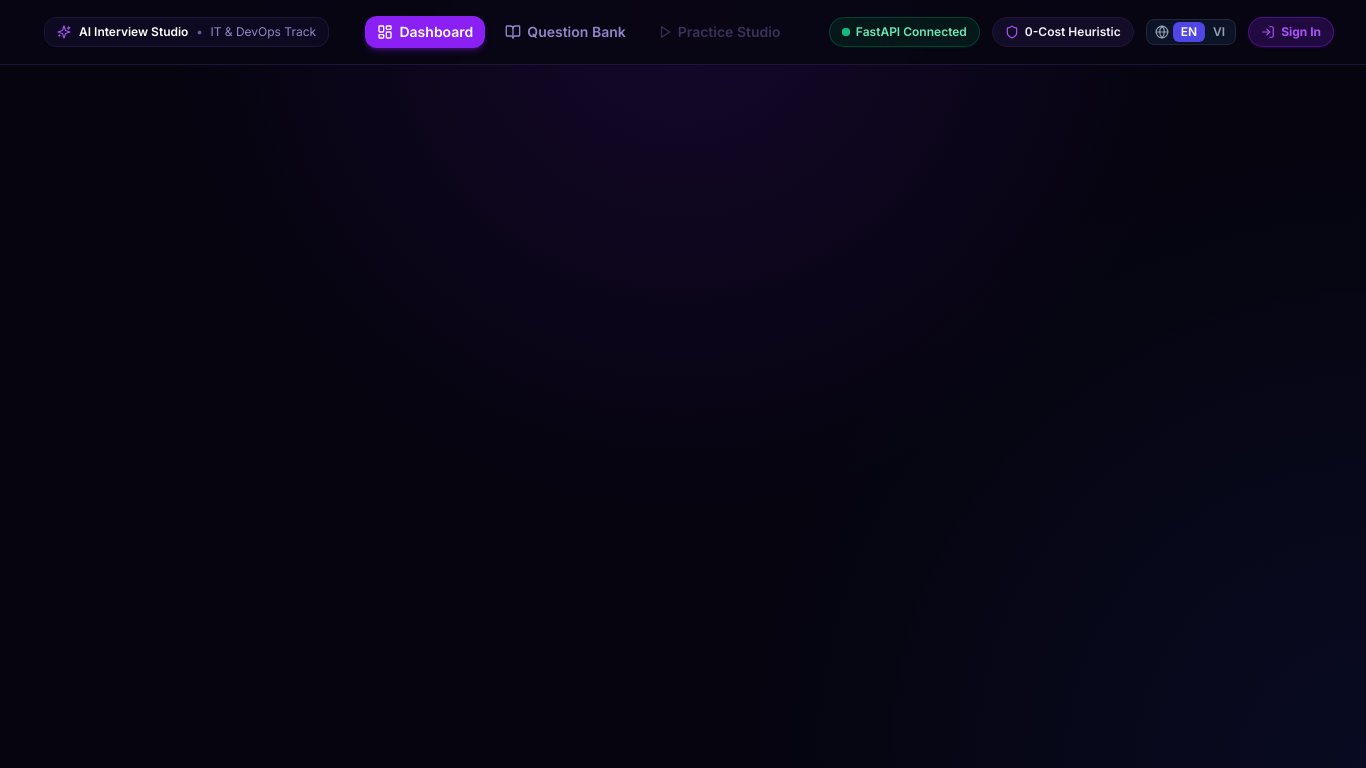
Test: i18n Subsystem & Language Switching › Header Component i18n Integration › renders Header labels in Vietnamese when switched
Expected: the text "Dashboard" is shown, [400,22,473,42]
Expected: the text "Question Bank" is shown, [527,22,626,42]
// Switch to Vietnamese
Click the button with test id "lang-switch-vi": point(1219, 32) [1205,22,1233,42]
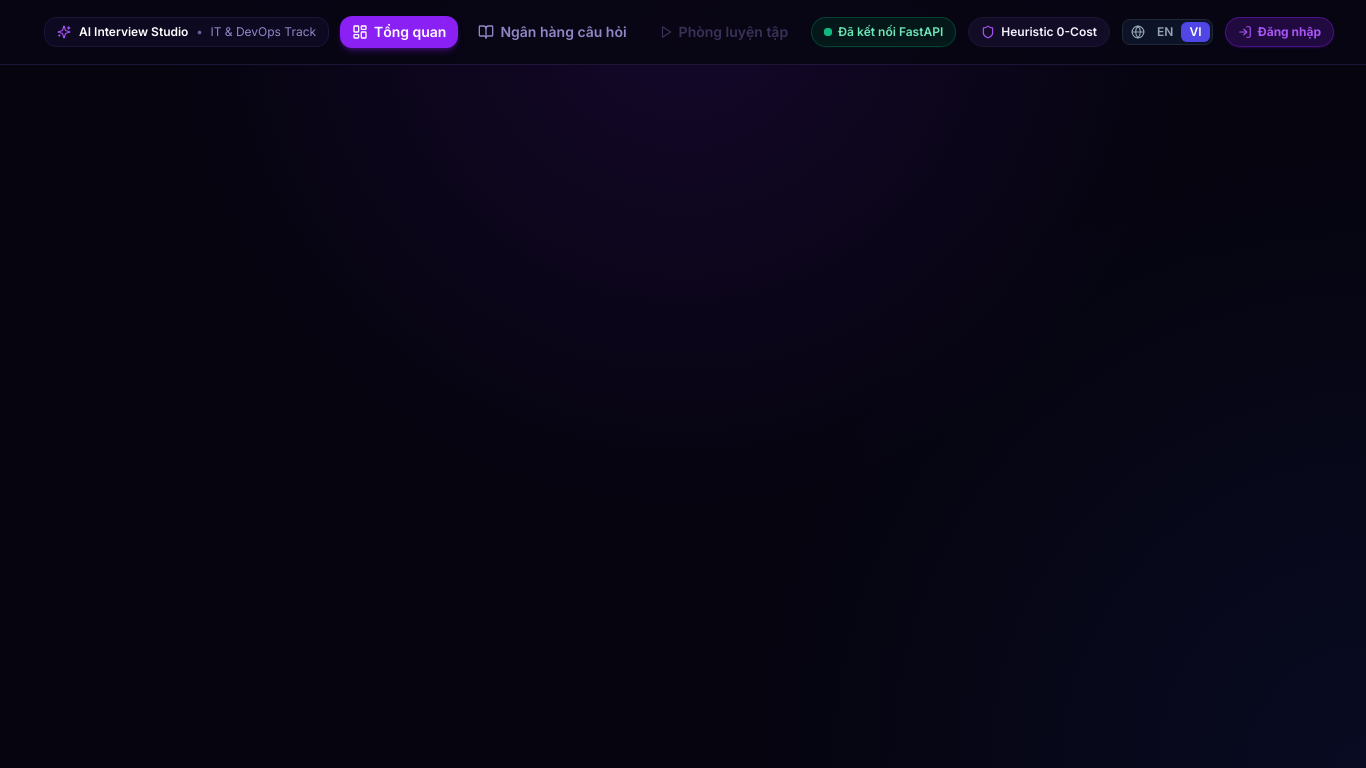
Now the text "Tổng quan" is shown, box [374,22,446,42]
Now the text "Ngân hàng câu hỏi" is shown, box [500,22,627,42]
Now the text "Phòng luyện tập" is shown, box [679,22,788,42]
